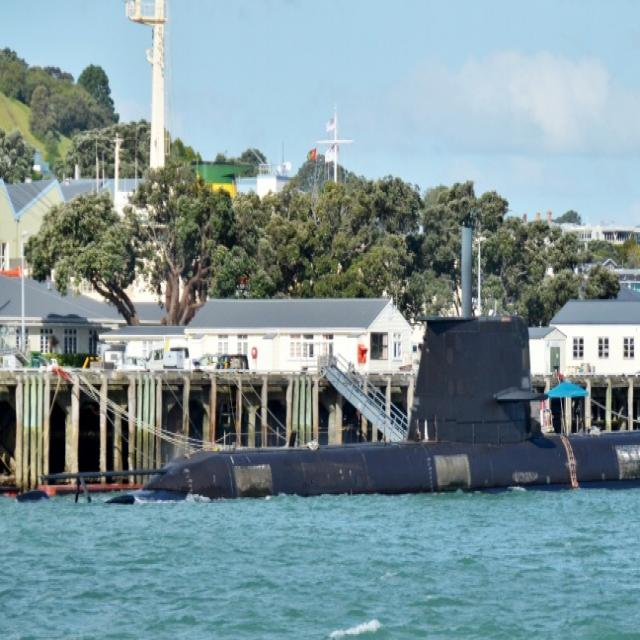submarine: (115, 300, 640, 505)
